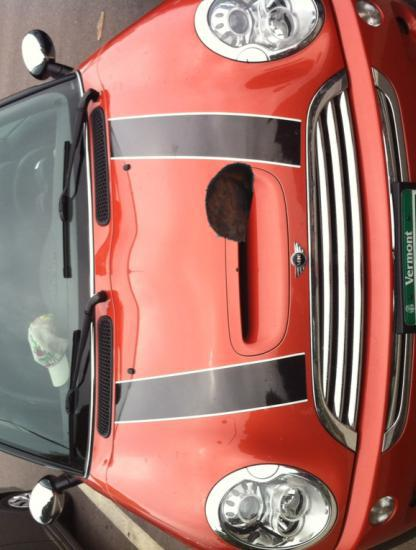Chestnut: (188, 160, 270, 242)
